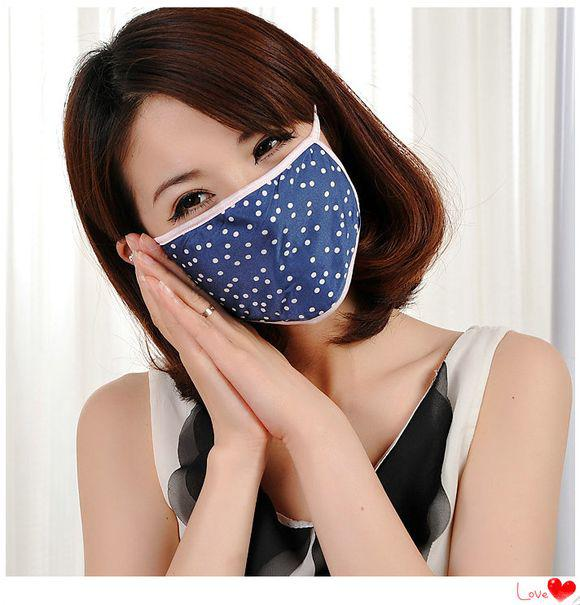OK: (139, 110, 353, 324)
